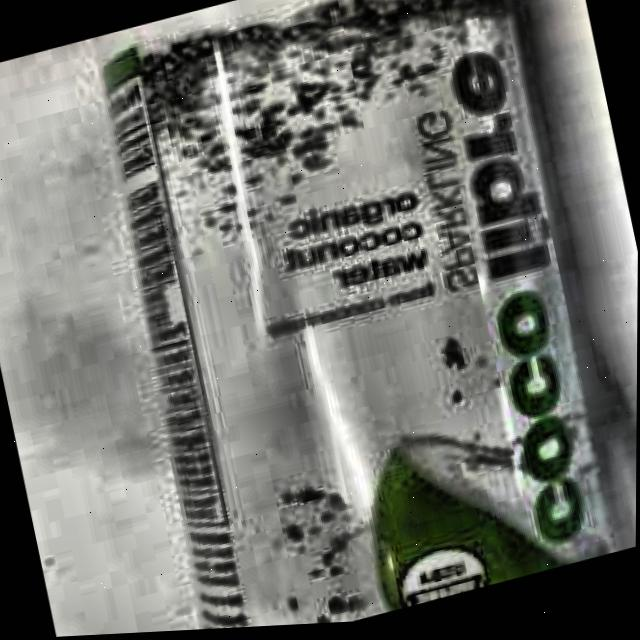metal: (95, 0, 616, 632)
